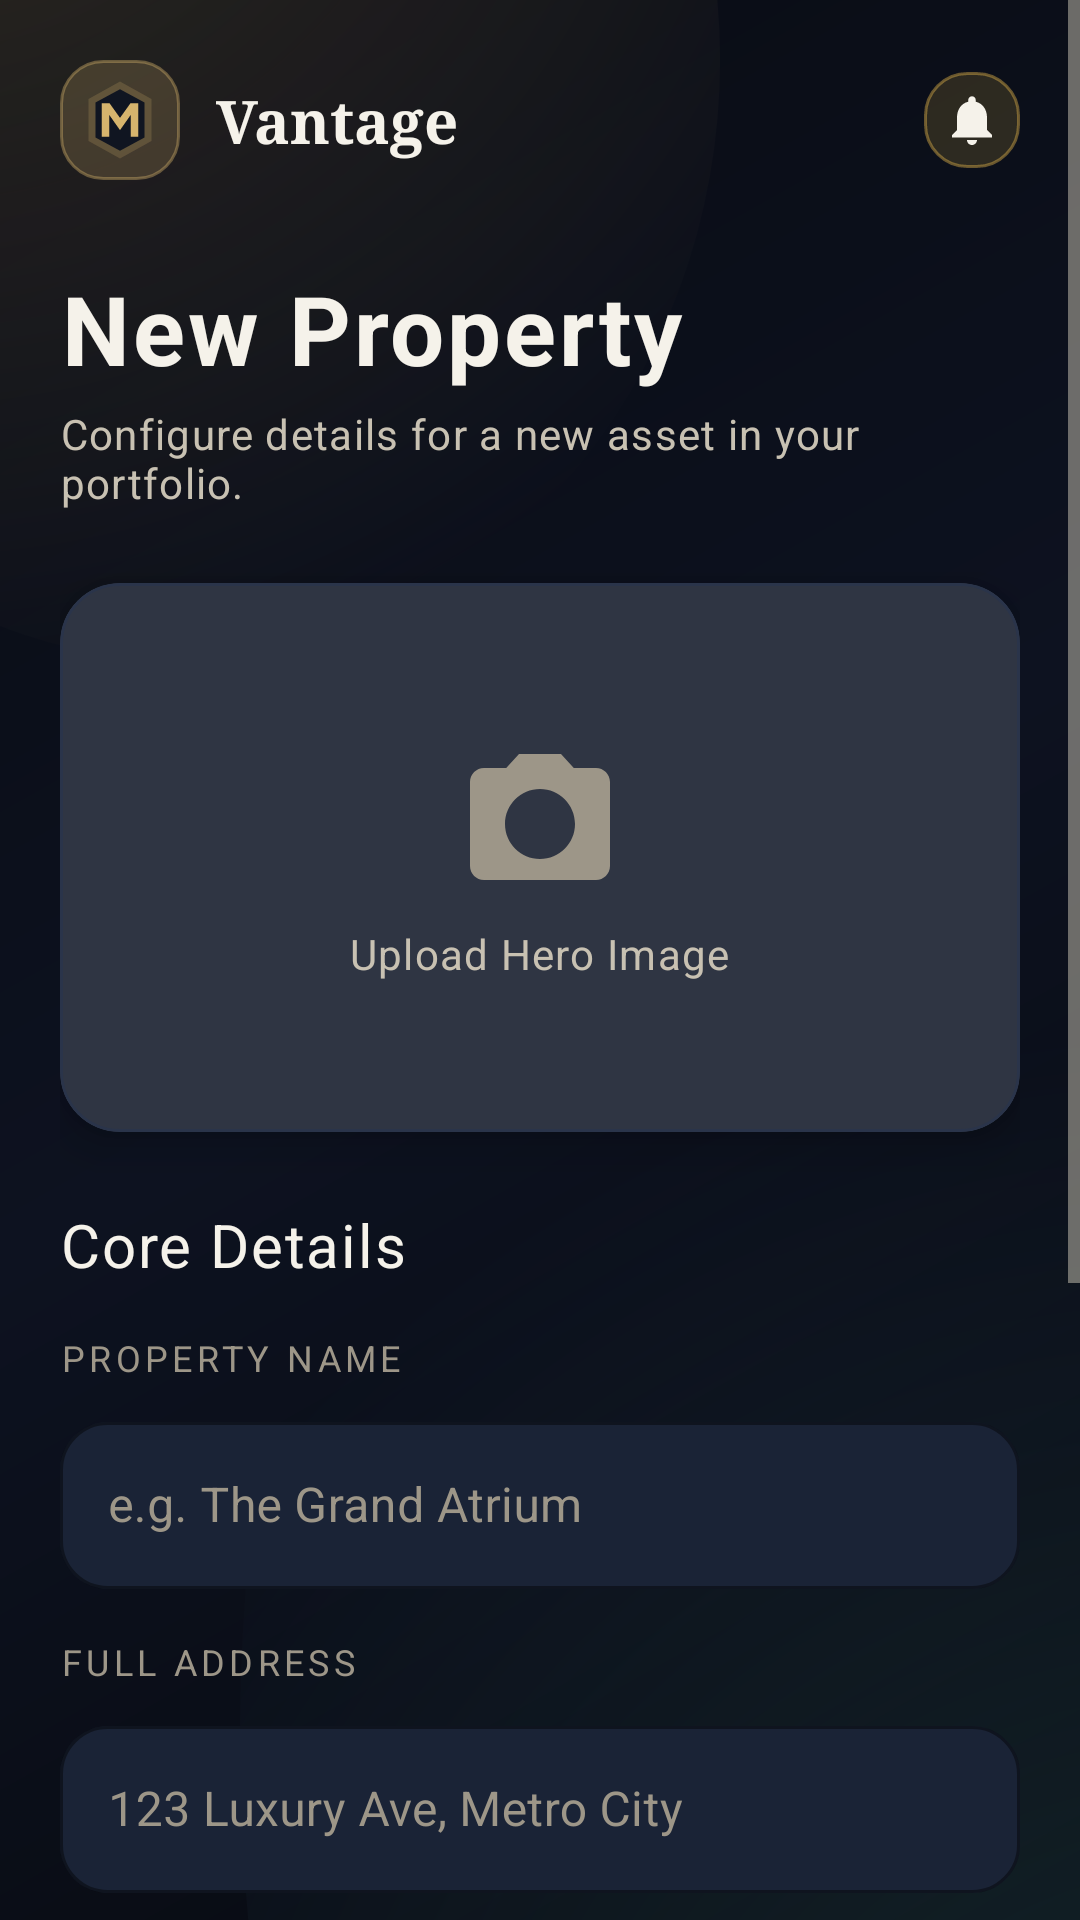

Icon click points for this 1080 x 1920 phone screenshot, format (x,y):
Notifications: (972,120)
